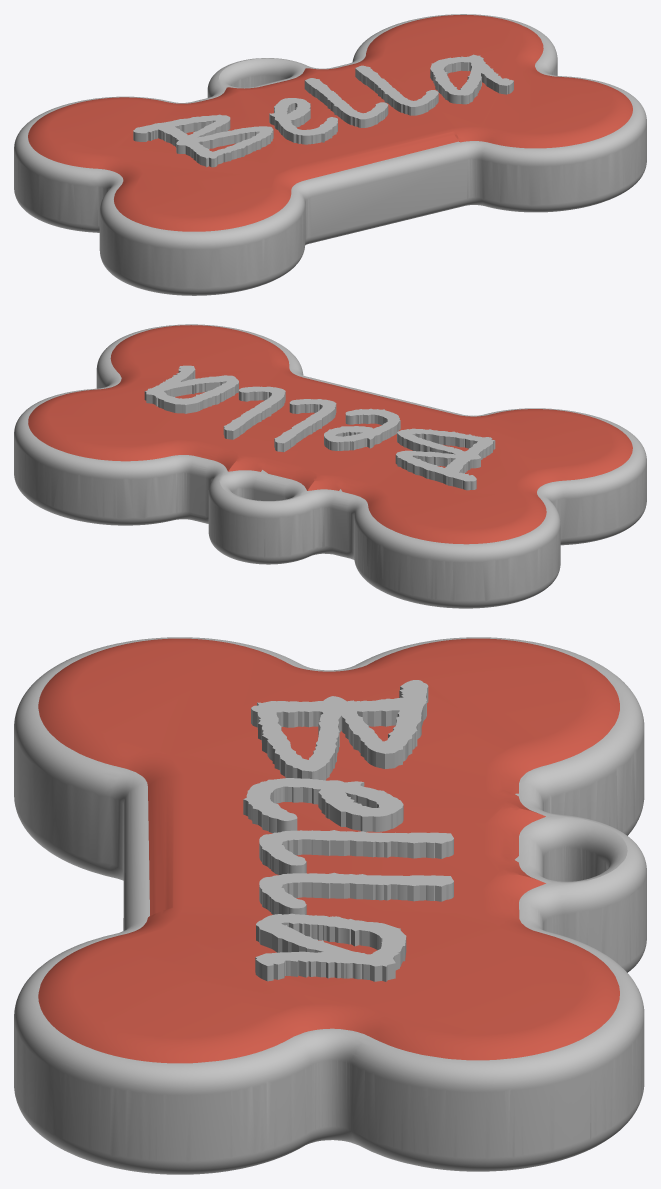
Rendered from Bone_bella.glb.
3 views of the same model, one above another, from view 1: azimuth 30°, elevation 25°; view 2: azimuth 150°, elevation 25°; view 3: azimuth 270°, elevation 25° (orthographic). The views are drawn at different scales.
Bounding box in the file's own units: 0.0438 × 0.0062 × 0.0264.
